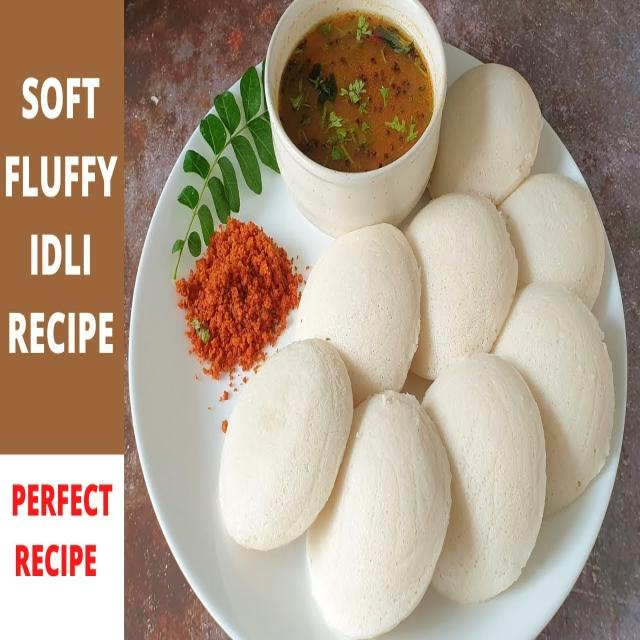IDLI: (307, 390, 451, 639), (422, 354, 546, 603), (219, 340, 353, 550), (494, 285, 614, 518), (296, 223, 421, 406), (404, 194, 518, 379), (428, 64, 544, 204), (498, 173, 605, 308)
